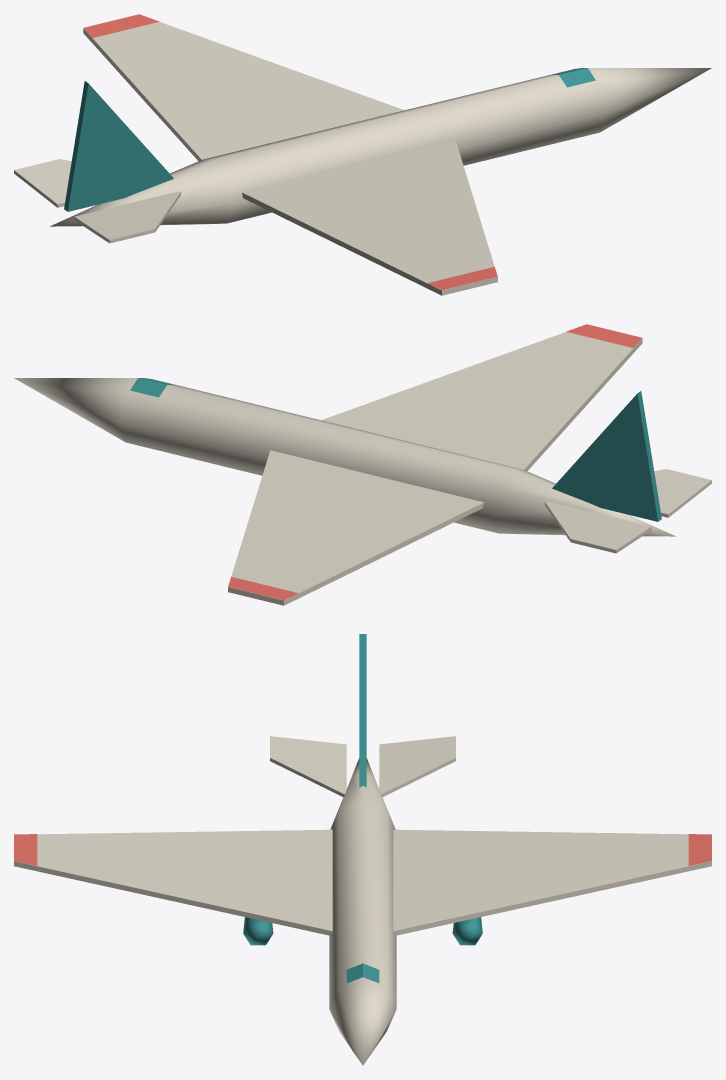
The model's file is aircraft.gltf.
The picture shows the model from 3 angles, top to bottom: view 1: azimuth 30°, elevation 25°; view 2: azimuth 150°, elevation 25°; view 3: azimuth 270°, elevation 25°; orthographic projection. The views are drawn at different scales.
Parts seen in each view (by area): view 1: WICI schematic aircraft; view 2: WICI schematic aircraft; view 3: WICI schematic aircraft.
Boxes of the visible parts, x1,y1,x2,y2 form: WICI schematic aircraft: (14,14,711,295); WICI schematic aircraft: (14,324,711,605); WICI schematic aircraft: (14,634,711,1065).
Bounding box in the file's own units: 32 × 8 × 30.
